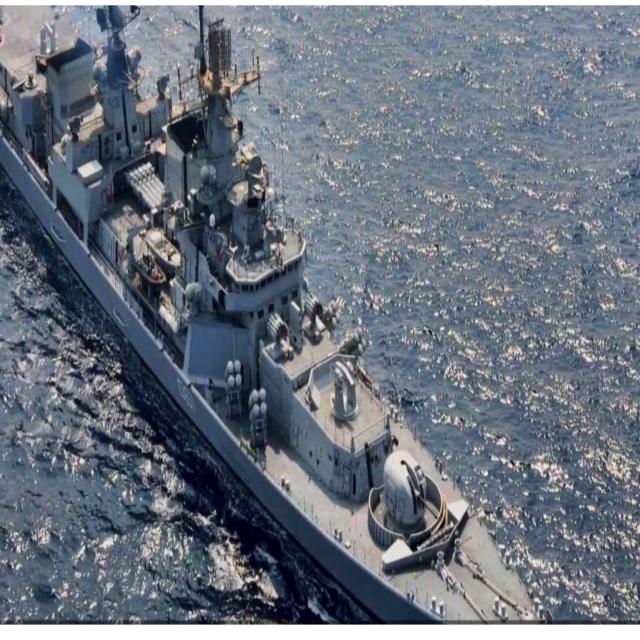OCR: (173, 372, 200, 420)
